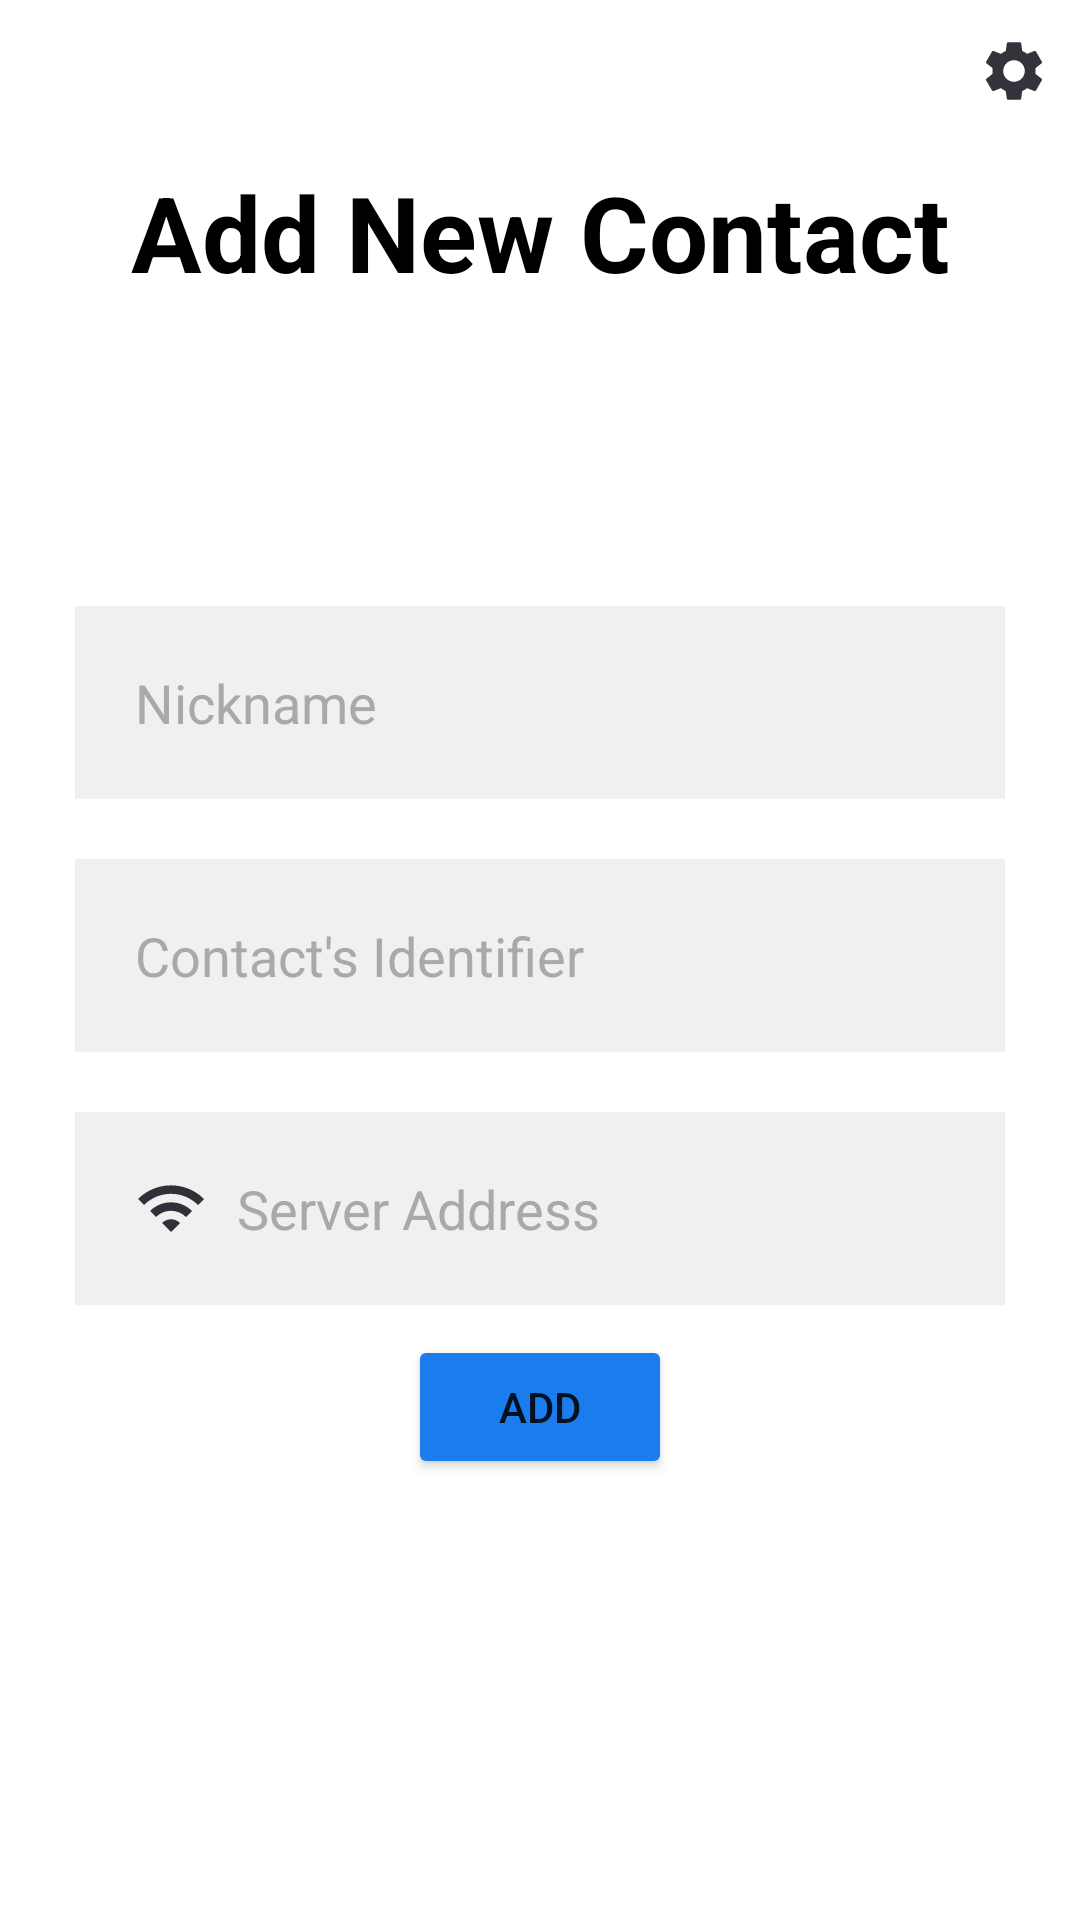

Where icons sit on this 1080w x 1920h app screen, as [x1,y1,x2,y2]:
Settings: [986,42,1042,100]
